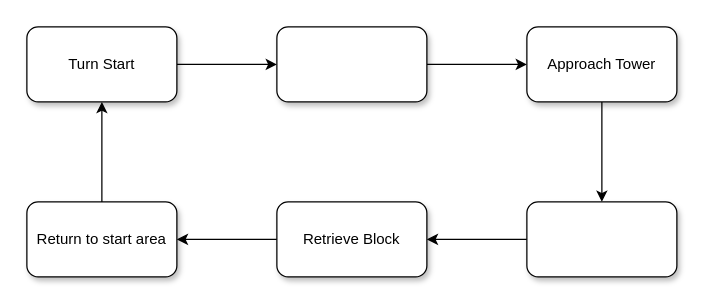
The diagram is 706 pixels wide and 308 high, and some of its shapes have lost their labels. Each missing label, with the centre of its shape:
"Determine Target" belongs at [352,66].
"Extract Block" belongs at [602,241].
